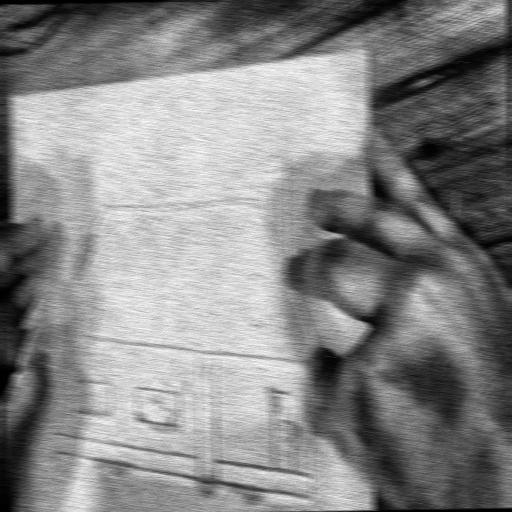house: (39, 128, 333, 510)
top_left: (359, 43, 375, 64)
top_right: (4, 89, 18, 108)
